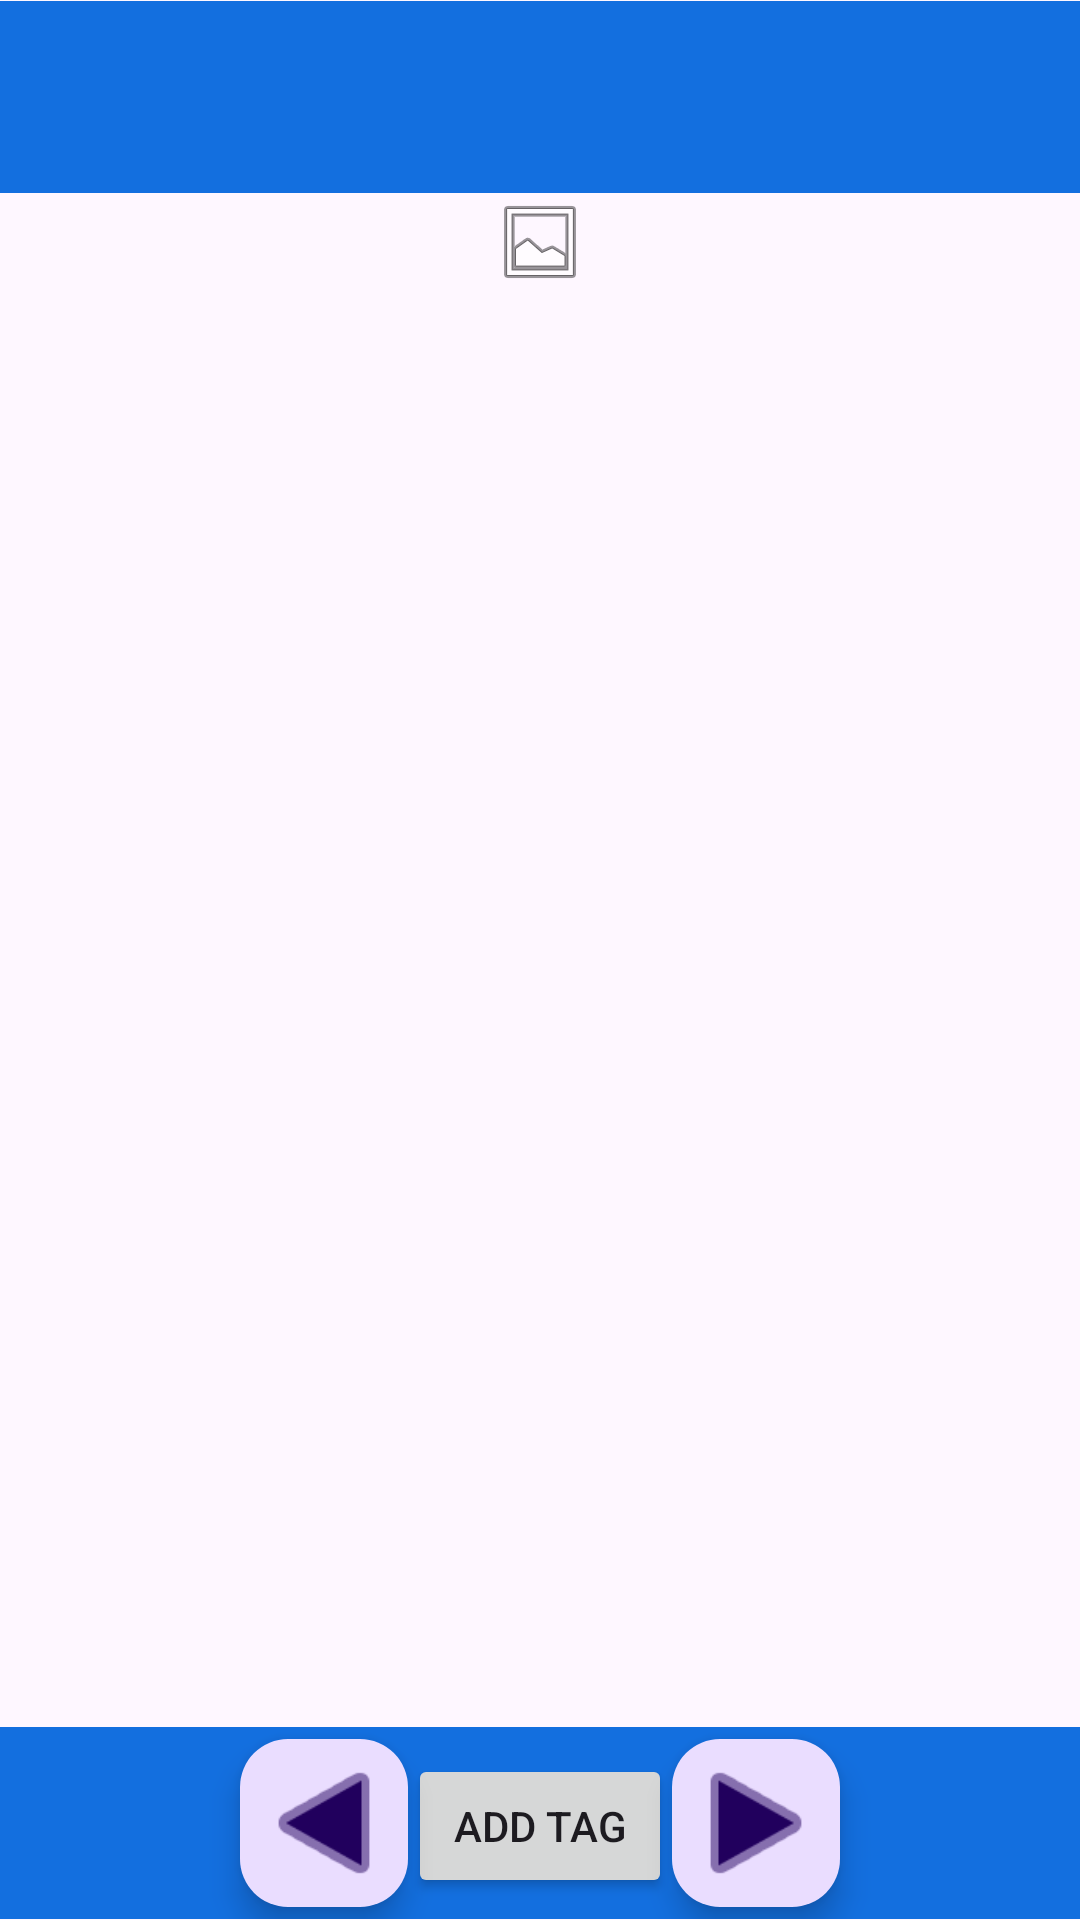

Point at icon controls on the screen. Image size 1080*1920, points as (x=x, y=y).
This is a photo: (x=540, y=242)
